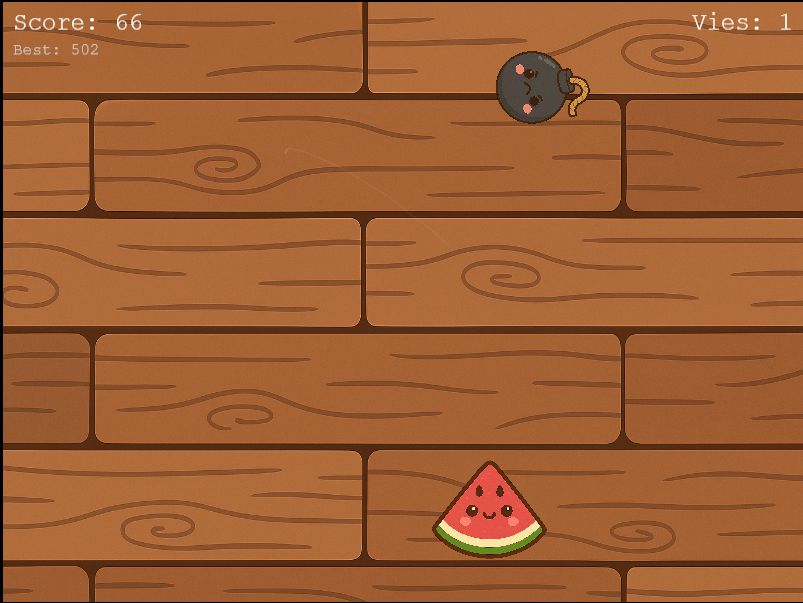bomb: (492, 47, 593, 130)
fruit: (427, 458, 555, 562)
